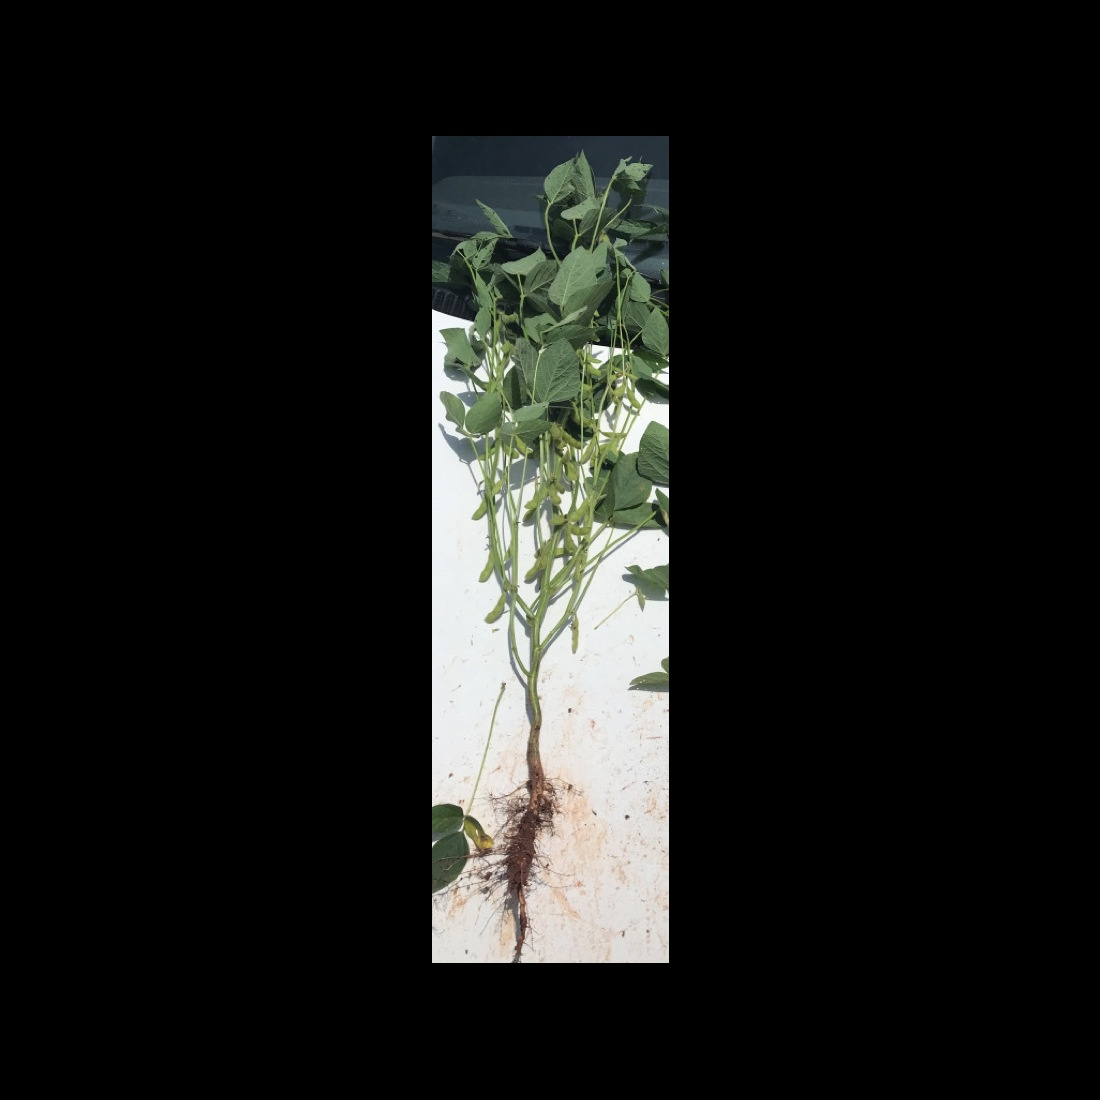pod: (478, 591, 509, 628), (477, 546, 496, 586), (578, 438, 595, 469), (514, 437, 534, 459), (470, 495, 487, 522), (629, 386, 642, 412), (566, 525, 595, 536)
soy: (441, 158, 652, 911)
